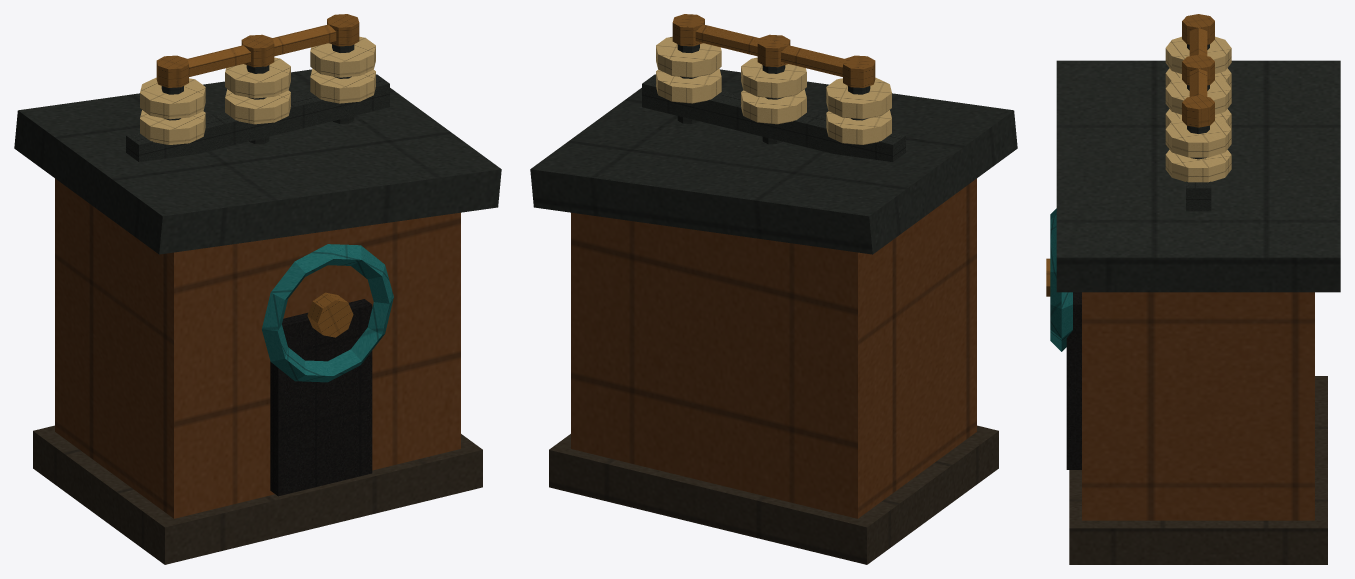
Rendered from transformer-shed.e3.glb.
3 views of the same model, side by side, from view 1: azimuth 30°, elevation 25°; view 2: azimuth 150°, elevation 25°; view 3: azimuth 270°, elevation 25° (orthographic). The views are drawn at different scales.
Parts seen in each view (by area): view 1: TransformerShedE3; view 2: TransformerShedE3; view 3: TransformerShedE3.
Part boxes in pixels (<box>): TransformerShedE3: <box>14,14,501,564</box>; TransformerShedE3: <box>530,14,1017,564</box>; TransformerShedE3: <box>1046,14,1340,564</box>.
Size of the model in its own units: 1.53 by 1.86 by 1.16.
1 material, 1 textured.
